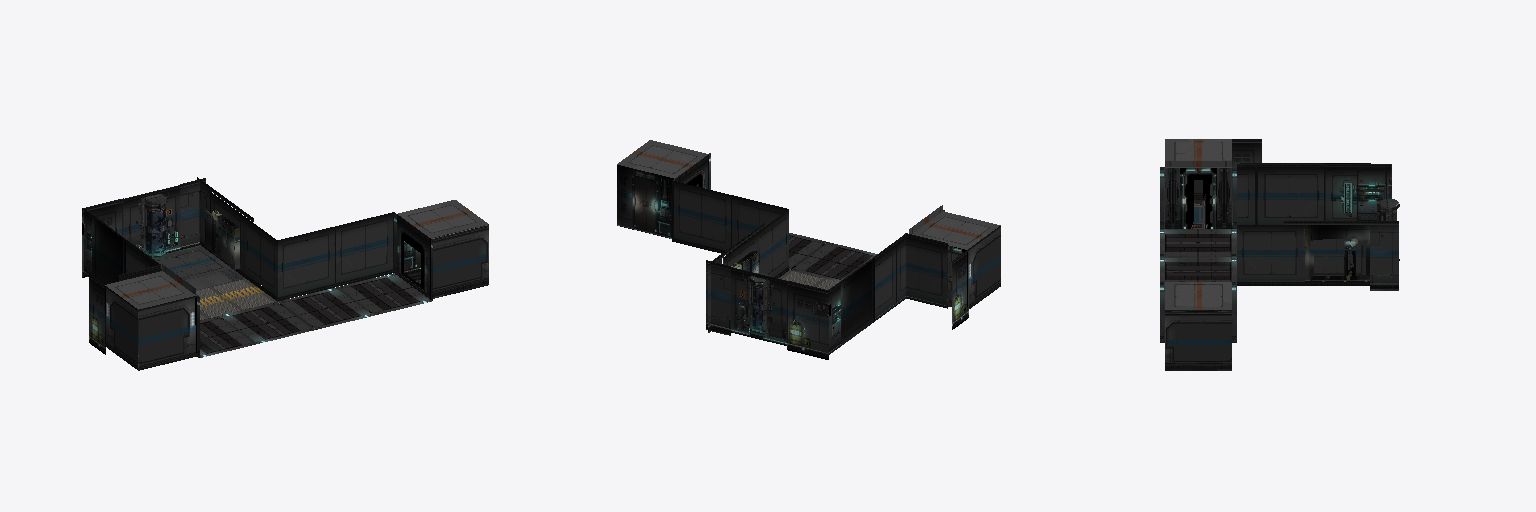
3 views of the same model, side by side, from view 1: azimuth 30°, elevation 25°; view 2: azimuth 150°, elevation 25°; view 3: azimuth 270°, elevation 25° (orthographic).
Visible parts, largest first — view 1: Main_Room_Cube.001; view 2: Main_Room_Cube.001; view 3: Main_Room_Cube.001.
Boxes of the visible parts, x1,y1,x2,y2 form: Main_Room_Cube.001: [82, 177, 488, 370]; Main_Room_Cube.001: [617, 140, 1000, 359]; Main_Room_Cube.001: [1160, 139, 1399, 370].
Bounding box in the file's own units: 15.56 × 3.23 × 9.23.
1 materials, 1 textured.